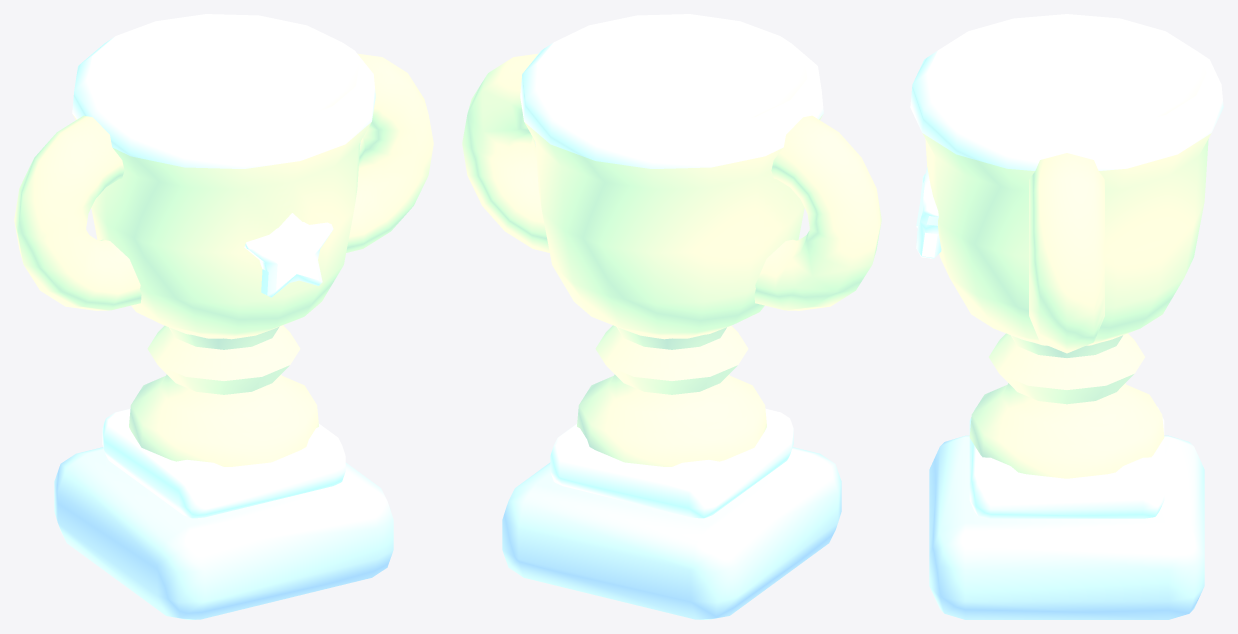
The model's file is props__Trophy.glb.
3 renders of one model, left to right at view 1: azimuth 30°, elevation 25°; view 2: azimuth 150°, elevation 25°; view 3: azimuth 270°, elevation 25°, orthographic. The views are drawn at different scales.
Visible parts, largest first — view 1: Trophy; view 2: Trophy; view 3: Trophy.
Boxes of the visible parts, x1,y1,x2,y2 form: Trophy: (14, 14, 433, 619); Trophy: (462, 14, 881, 619); Trophy: (910, 14, 1223, 619).
Bounding box in the file's own units: 2.3 × 2.62 × 1.48.
